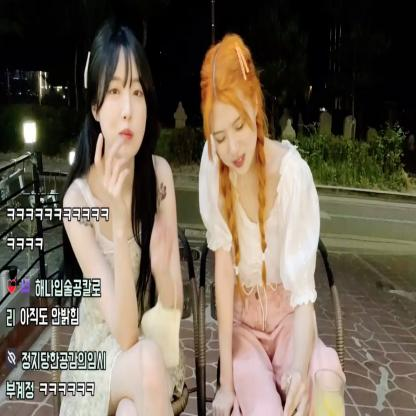streamer: (196, 33, 345, 416), (60, 19, 184, 416)
